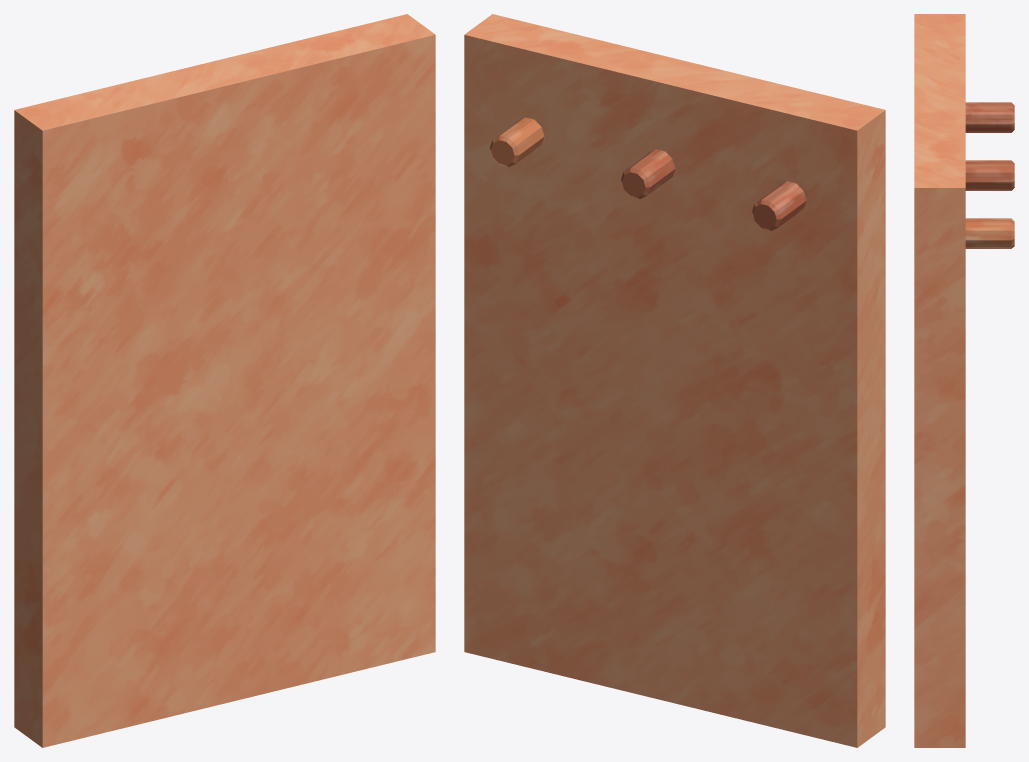
File: wall_upper.fbx
3 views of the same model, side by side, from view 1: azimuth 30°, elevation 25°; view 2: azimuth 150°, elevation 25°; view 3: azimuth 270°, elevation 25° (orthographic). The views are drawn at different scales.
Parts seen in each view (by area): view 1: wall_upper; view 2: wall_upper; view 3: wall_upper.
Boxes of the visible parts, box(x1,y1,x2,y2) form: wall_upper: box(14, 14, 435, 747); wall_upper: box(464, 14, 885, 747); wall_upper: box(914, 14, 1014, 747).
Size of the model in its own units: 8 by 12 by 1.95.
1 material, 1 textured.
